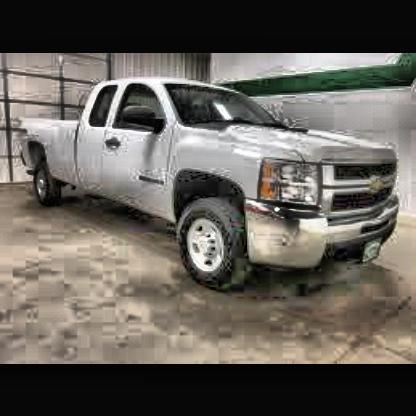Chevrolet Silverado 1500 Extended Cab 2012: (19, 74, 406, 292)
